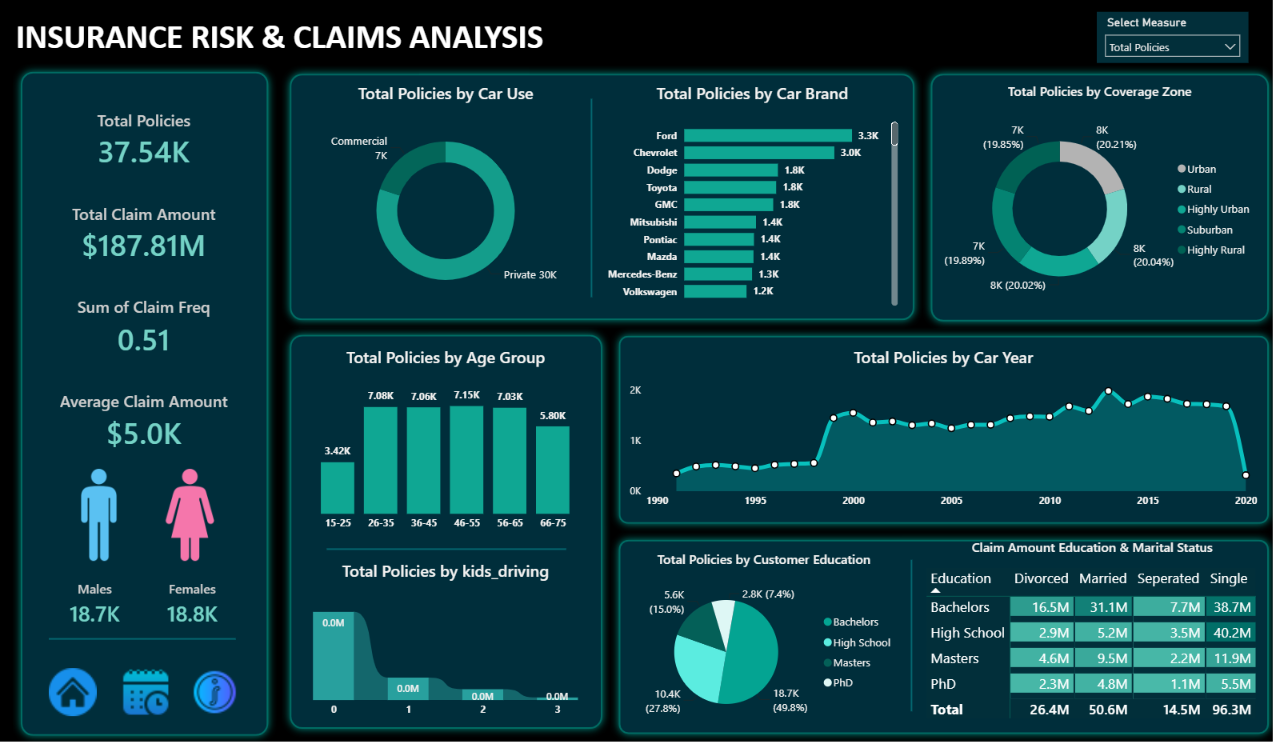

The dashboard page shown, as its layout file describes it:
{"tool":"powerbi","page":{"name":"Page 1","canvas":[1600,950],"ordinal":0},"visuals":[{"type":"textbox","box":[19.1,23.9,692.4,63.7],"z":0},{"type":"shape","box":[20.4,88.8,329.3,850],"z":1000},{"type":"cardVisual","title":"Total Policies","fields":{"Data":["_measures.Total Policies","_measures.Total Claim Amount","Avg(fact_car_insurance.claim_freq)","_measures.Average Claim Amount"]},"box":[49.3,130.5,270,460],"z":2000},{"type":"cardVisual","title":"Total Policies","fields":{"Data":["_measures.Males Count","_measures.Females Count"]},"box":[53.8,709,260,110],"z":3000},{"type":"image","box":[184.3,594.4,115,115],"z":4000},{"type":"image","box":[69.7,594.4,115,115],"z":5000},{"type":"slicer","fields":{"Values":["Select Measure.Select Measure"]},"box":[1375.3,23.9,189.4,63.7],"z":6000},{"type":"shape","box":[356.6,90.7,800.7,327.9],"z":7000},{"type":"donutChart","fields":{"Category":["dim_car.car_use"],"Y":["_measures.Total Claim Amount"]},"box":[391.6,111.4,340,285],"z":8000},{"type":"clusteredBarChart","fields":{"Category":["dim_car.car_brand"],"Y":["_measures.Total Claim Amount"]},"box":[757.7,111.4,374.1,284.9],"z":9000},{"type":"shape","box":[1157.3,90.7,442.5,329.5],"z":9001},{"type":"donutChart","fields":{"Category":["dim_customer.customer_coverage_zone"],"Y":["_measures.Total Claim Amount"]},"box":[1178,111.4,402.7,284.9],"z":9002},{"type":"shape","box":[356.6,417.1,410.7,512.6],"z":9003},{"type":"clusteredColumnChart","fields":{"Category":["dim_customer.Age Group"],"Y":["_measures.Total Claim Amount"]},"box":[378.9,440.9,365,240],"z":9004},{"type":"ribbonChart","fields":{"Category":["fact_car_insurance.kids_driving"],"Y":["_measures.Total Claim Amount"]},"box":[378.9,708.4,364.5,205.3],"z":9005},{"type":"shape","box":[767.3,418.7,832.5,255],"z":9006},{"type":"areaChart","fields":{"Category":["dim_car.car_year"],"Y":["_measures.Total Claim Amount"]},"box":[786.4,440.9,794.3,211.7],"z":9007},{"type":"shape","box":[767.3,673.3,832.5,262.7],"z":9010},{"type":"donutChart","fields":{"Category":["dim_customer.customer_education"],"Y":["_measures.Total Claim Amount"]},"box":[786.4,695.6,345.4,222.9],"z":9011},{"type":"pivotTable","title":"Claim Amount Education & Marital Status","fields":{"Columns":["dim_customer.customer_marital_status"],"Rows":["dim_customer.customer_education"],"Values":["_measures.Total Claim Amount"]},"box":[1157.3,681.3,423.4,237.2],"z":9012},{"type":"shape","box":[593.8,132.1,299.3,248.3],"z":9013},{"type":"shape","box":[993.3,708.4,299.3,189.4],"z":9014},{"type":"shape","box":[412.3,571.5,299.3,248.3],"z":9015},{"type":"shape","box":[65.3,800.7,234,12.7],"z":9016},{"type":"image","box":[65.3,834.1,60,80],"z":9017},{"type":"image","box":[156,834.1,60,80],"z":9018},{"type":"image","box":[242,834.1,60,80],"z":9019}]}

Visuals, with their boxes in screenshot pixels (x1, y1, x2, y2), scaled from the page's 1600x950 canvas onto the 1273x742 screenshot:
textbox: <region>15, 19, 566, 68</region>
shape: <region>16, 69, 278, 733</region>
"Total Policies" cardVisual: <region>39, 102, 254, 461</region>
"Total Policies" cardVisual: <region>43, 554, 250, 640</region>
image: <region>147, 464, 238, 554</region>
image: <region>55, 464, 147, 554</region>
slicer - Select Measure.Select Measure: <region>1094, 19, 1245, 68</region>
shape: <region>284, 71, 921, 327</region>
donutChart - dim_car.car_use x _measures.Total Claim Amount: <region>312, 87, 582, 310</region>
clusteredBarChart - dim_car.car_brand x _measures.Total Claim Amount: <region>603, 87, 900, 310</region>
shape: <region>921, 71, 1272, 328</region>
donutChart - dim_customer.customer_coverage_zone x _measures.Total Claim Amount: <region>937, 87, 1258, 310</region>
shape: <region>284, 326, 610, 726</region>
clusteredColumnChart - dim_customer.Age Group x _measures.Total Claim Amount: <region>301, 344, 592, 532</region>
ribbonChart - fact_car_insurance.kids_driving x _measures.Total Claim Amount: <region>301, 553, 591, 714</region>
shape: <region>610, 327, 1272, 526</region>
areaChart - dim_car.car_year x _measures.Total Claim Amount: <region>626, 344, 1258, 510</region>
shape: <region>610, 526, 1272, 731</region>
donutChart - dim_customer.customer_education x _measures.Total Claim Amount: <region>626, 543, 900, 717</region>
"Claim Amount Education & Marital Status" pivotTable: <region>921, 532, 1258, 717</region>
shape: <region>472, 103, 711, 297</region>
shape: <region>790, 553, 1028, 701</region>
shape: <region>328, 446, 566, 640</region>
shape: <region>52, 625, 238, 635</region>
image: <region>52, 651, 100, 714</region>
image: <region>124, 651, 172, 714</region>
image: <region>193, 651, 240, 714</region>
